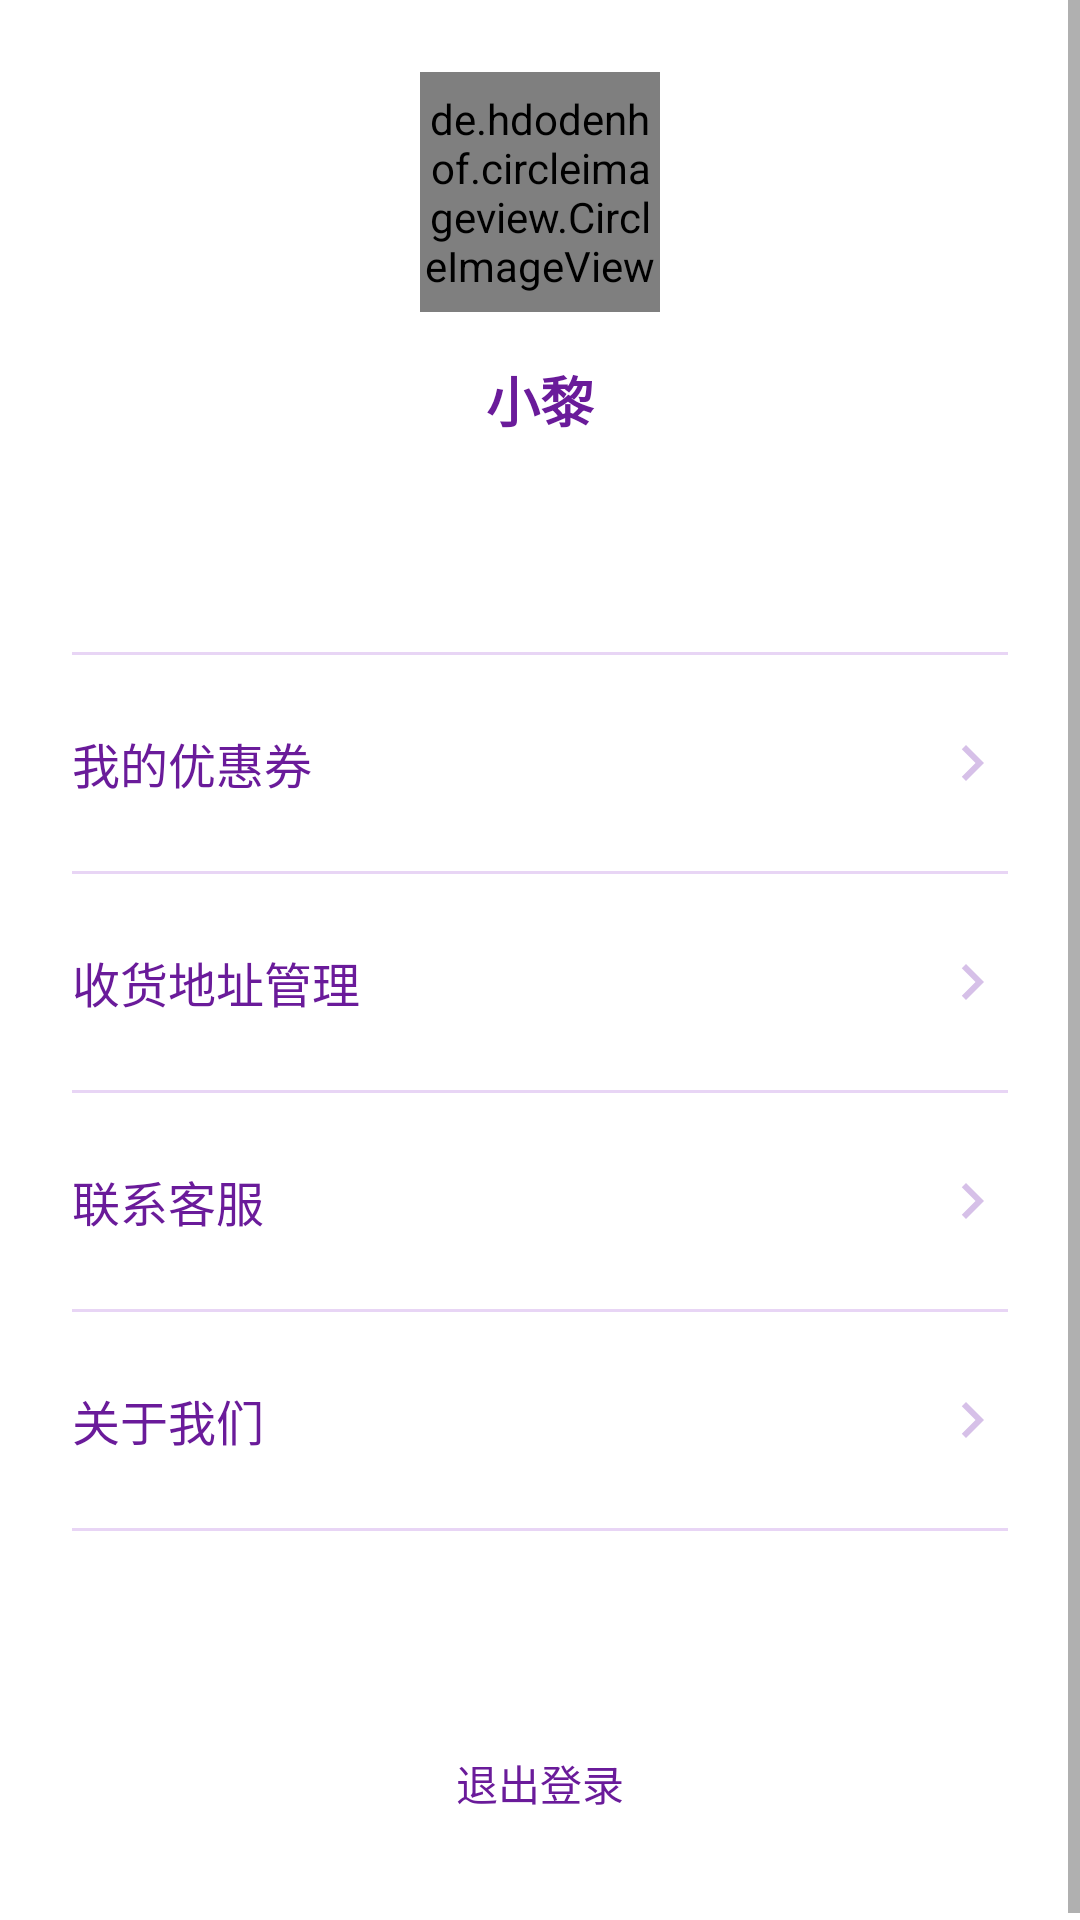

Where to tap for icons on this 1080x1920 app screen, as [x,y]:
arrow right: [973,763], [973,982], [973,1201], [973,1420]
